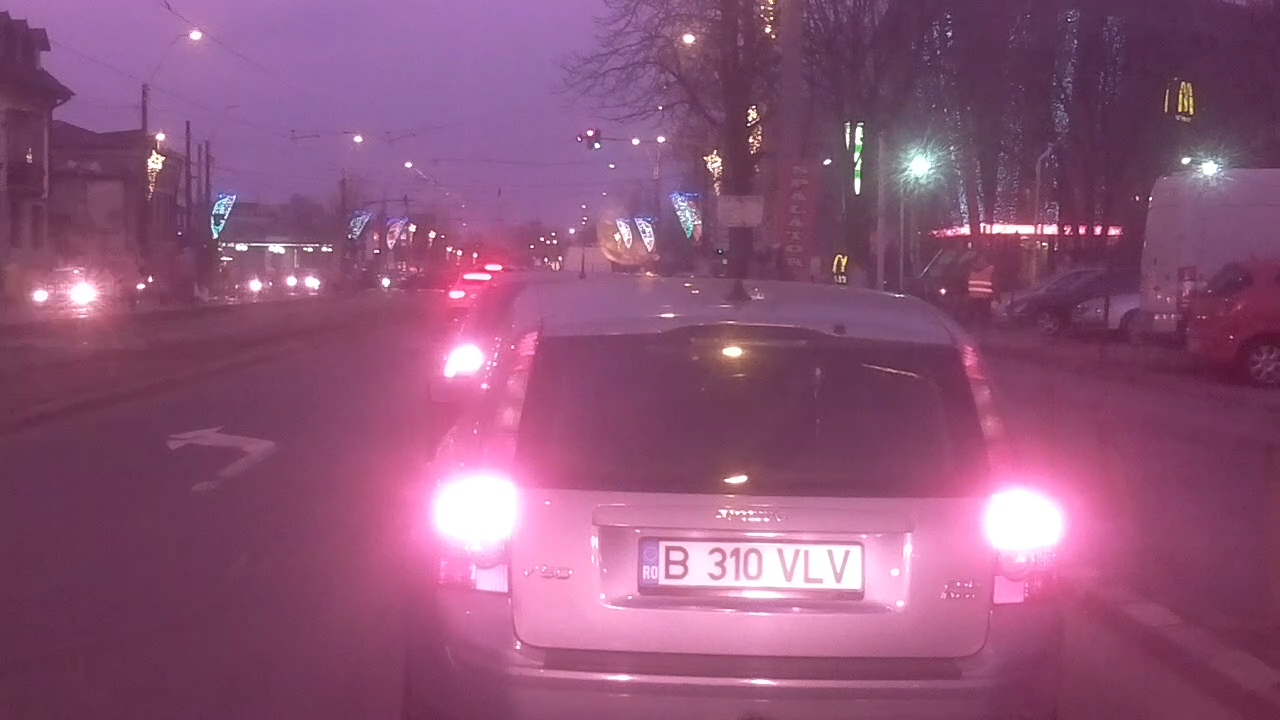license-plate: (628, 528, 871, 604)
